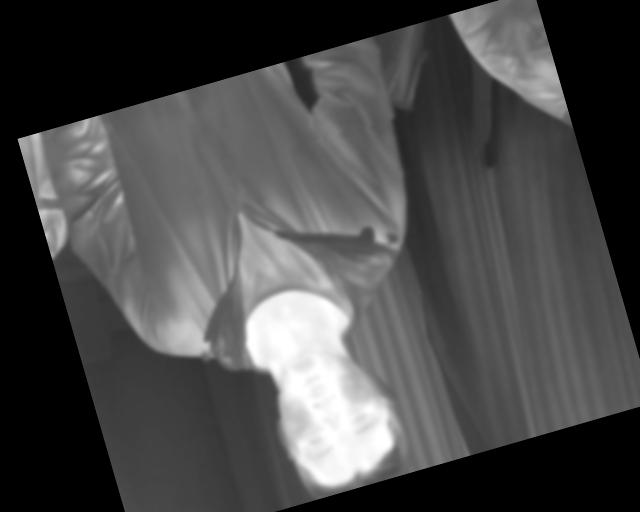face: (259, 335, 414, 504)
